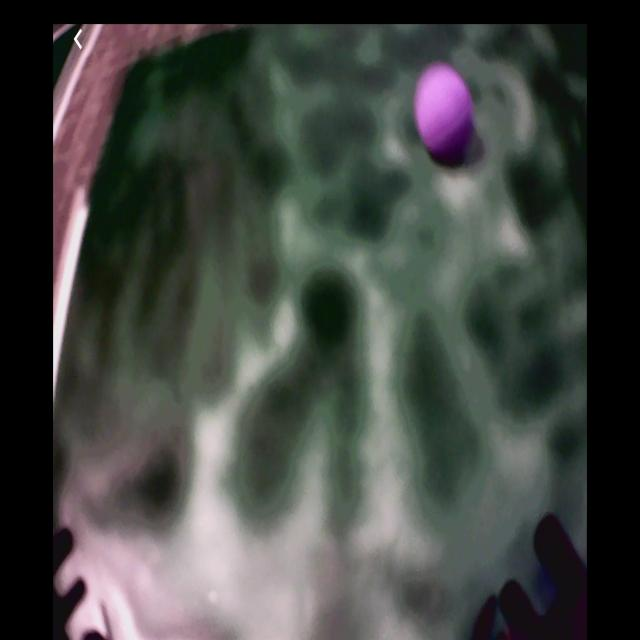ball: (414, 62, 473, 156)
